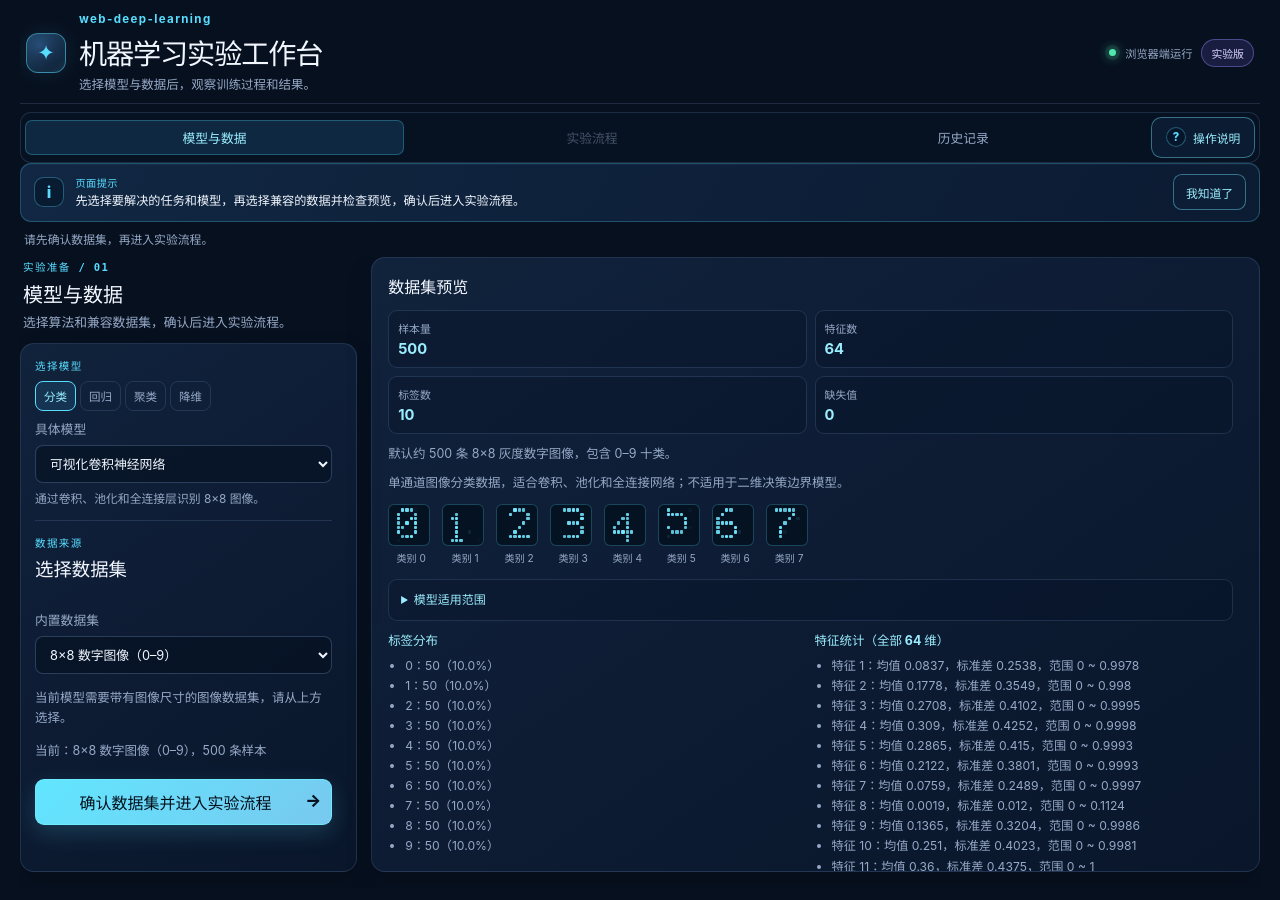
Test: 实验工作台 › 默认在同一准备页选择模型和数据集并进入实验流程
Check: the heading "模型与数据" is shown, box [23, 283, 123, 307]
Check: the dropdown labelled "具体模型" shows "可视化卷积神经网络", box [35, 445, 332, 483]
Click the button "确认数据集并进入实验流程 →" at (184, 802), box [35, 778, 332, 824]
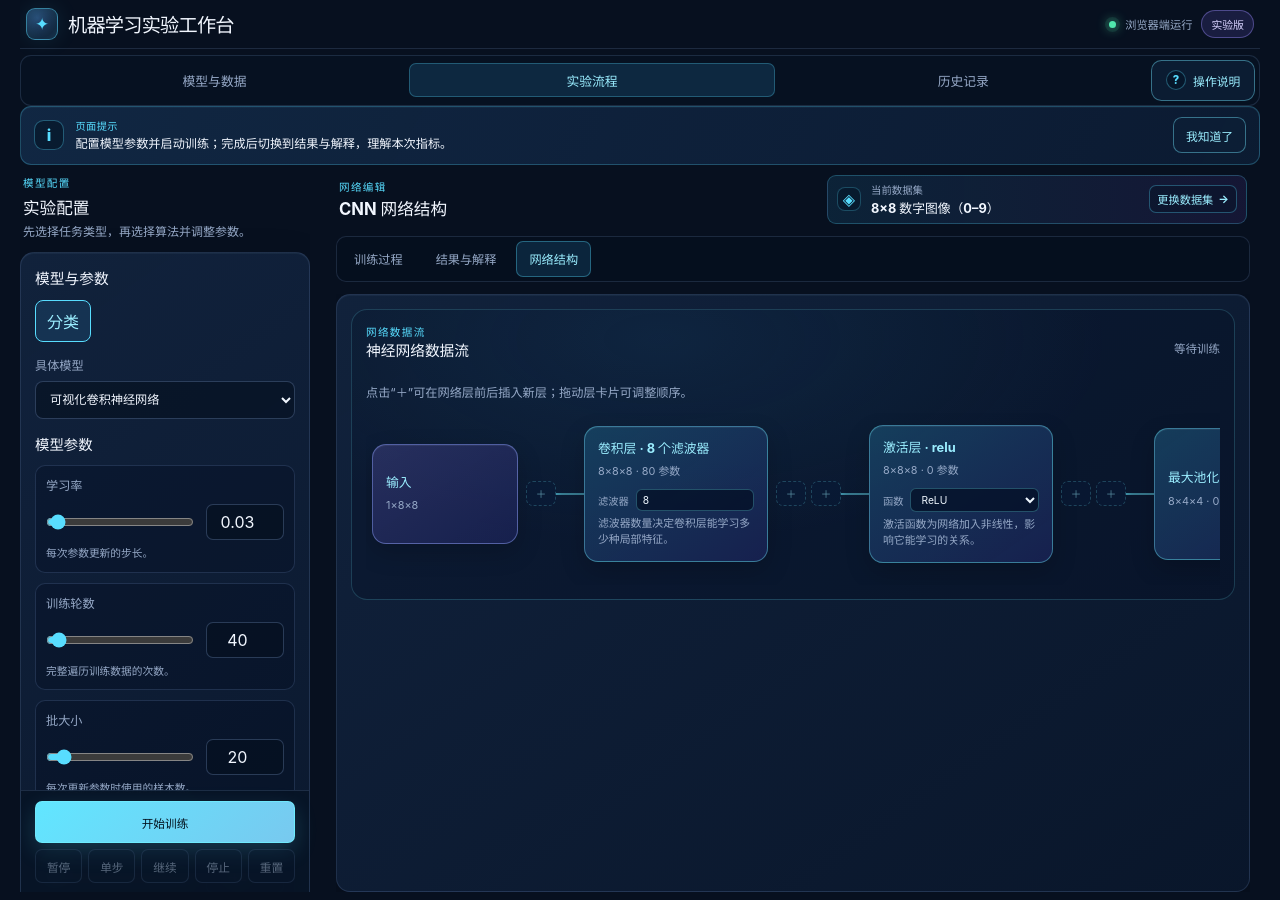
Check: the button "开始训练" is enabled, box [35, 801, 295, 843]
Check: the element named "训练画布" is shown, box [336, 173, 1260, 892]
